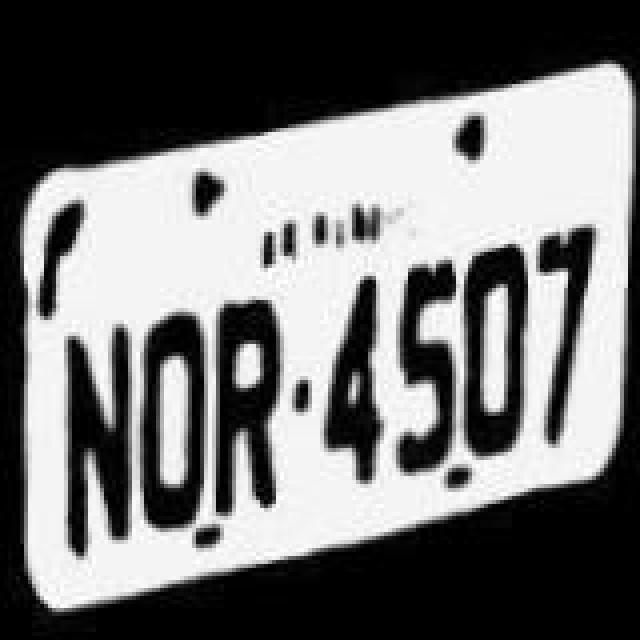4: (302, 252, 390, 508)
5: (376, 246, 460, 474)
7: (526, 196, 602, 456)
N: (50, 300, 138, 568)
O: (128, 258, 212, 534), (454, 230, 530, 466)
R: (200, 264, 300, 520)
